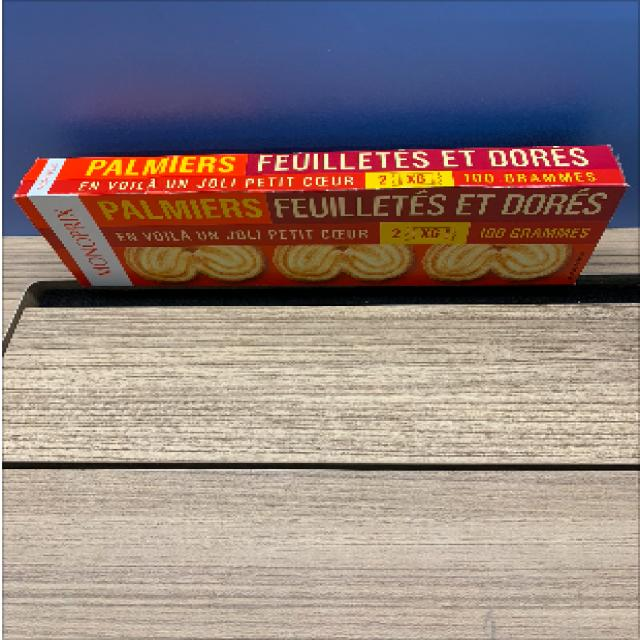object_name: (31, 157, 621, 290)
